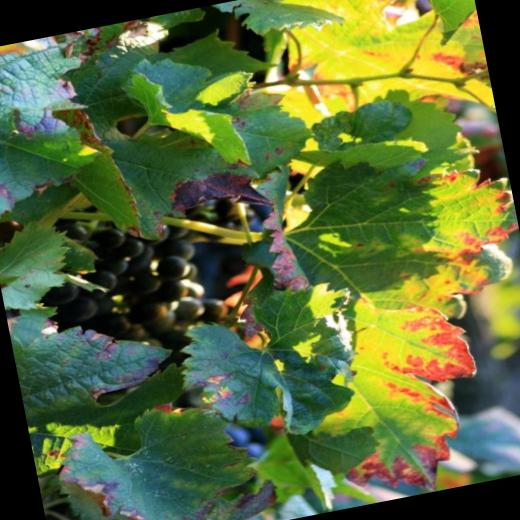Orange: (28, 180, 254, 385), (18, 189, 230, 382)
